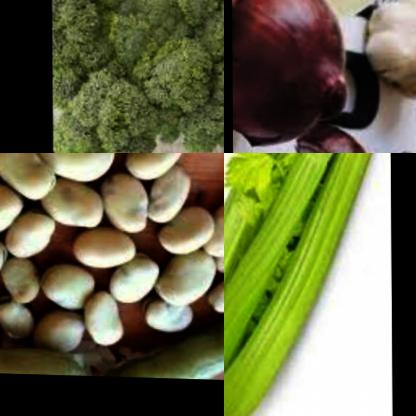beans: (0, 153, 224, 344), (80, 272, 224, 380), (0, 326, 89, 375)
broccoli: (55, 0, 224, 153)
celery: (224, 153, 378, 416)
garlic: (367, 0, 416, 107)
onion: (232, 0, 355, 153), (289, 126, 381, 153)
